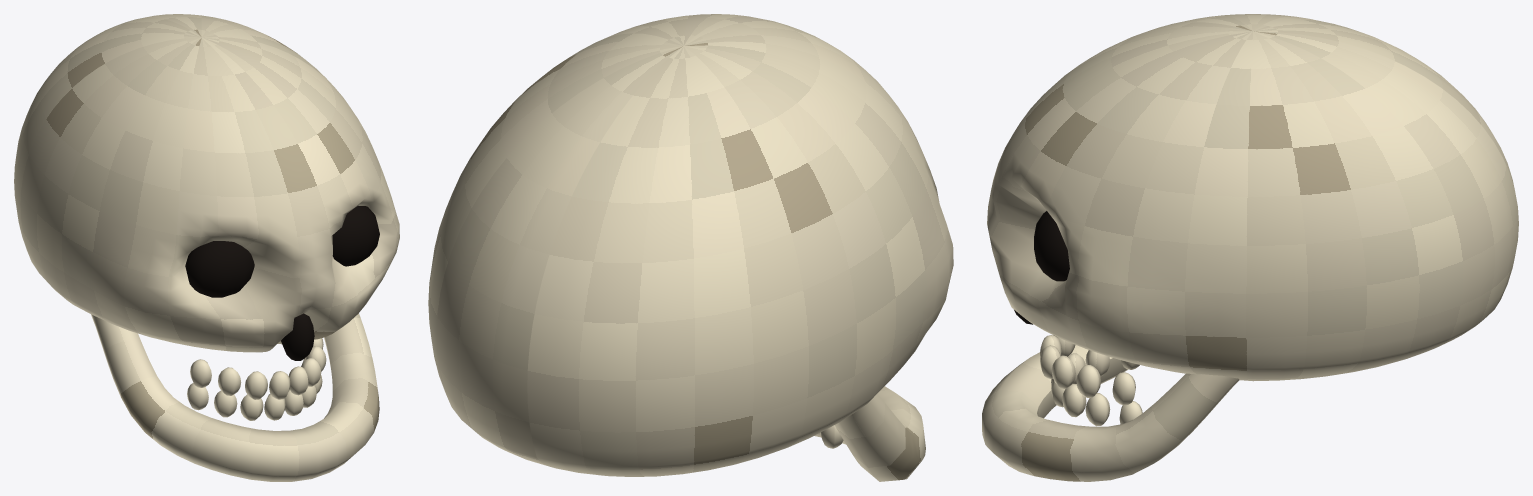
The model's file is skull.glb.
3 views of the same model, side by side, from view 1: azimuth 30°, elevation 25°; view 2: azimuth 150°, elevation 25°; view 3: azimuth 270°, elevation 25° (orthographic). The views are drawn at different scales.
Parts seen in each view (by area): view 1: skull; view 2: skull; view 3: skull.
Boxes of the visible parts, x1=… form: skull: x1=14, y1=14, x2=399, y2=481; skull: x1=428, y1=14, x2=953, y2=481; skull: x1=982, y1=14, x2=1518, y2=481.
Size of the model in its own units: 0.1402 by 0.1628 by 0.1898.
2 materials, 1 textured.
